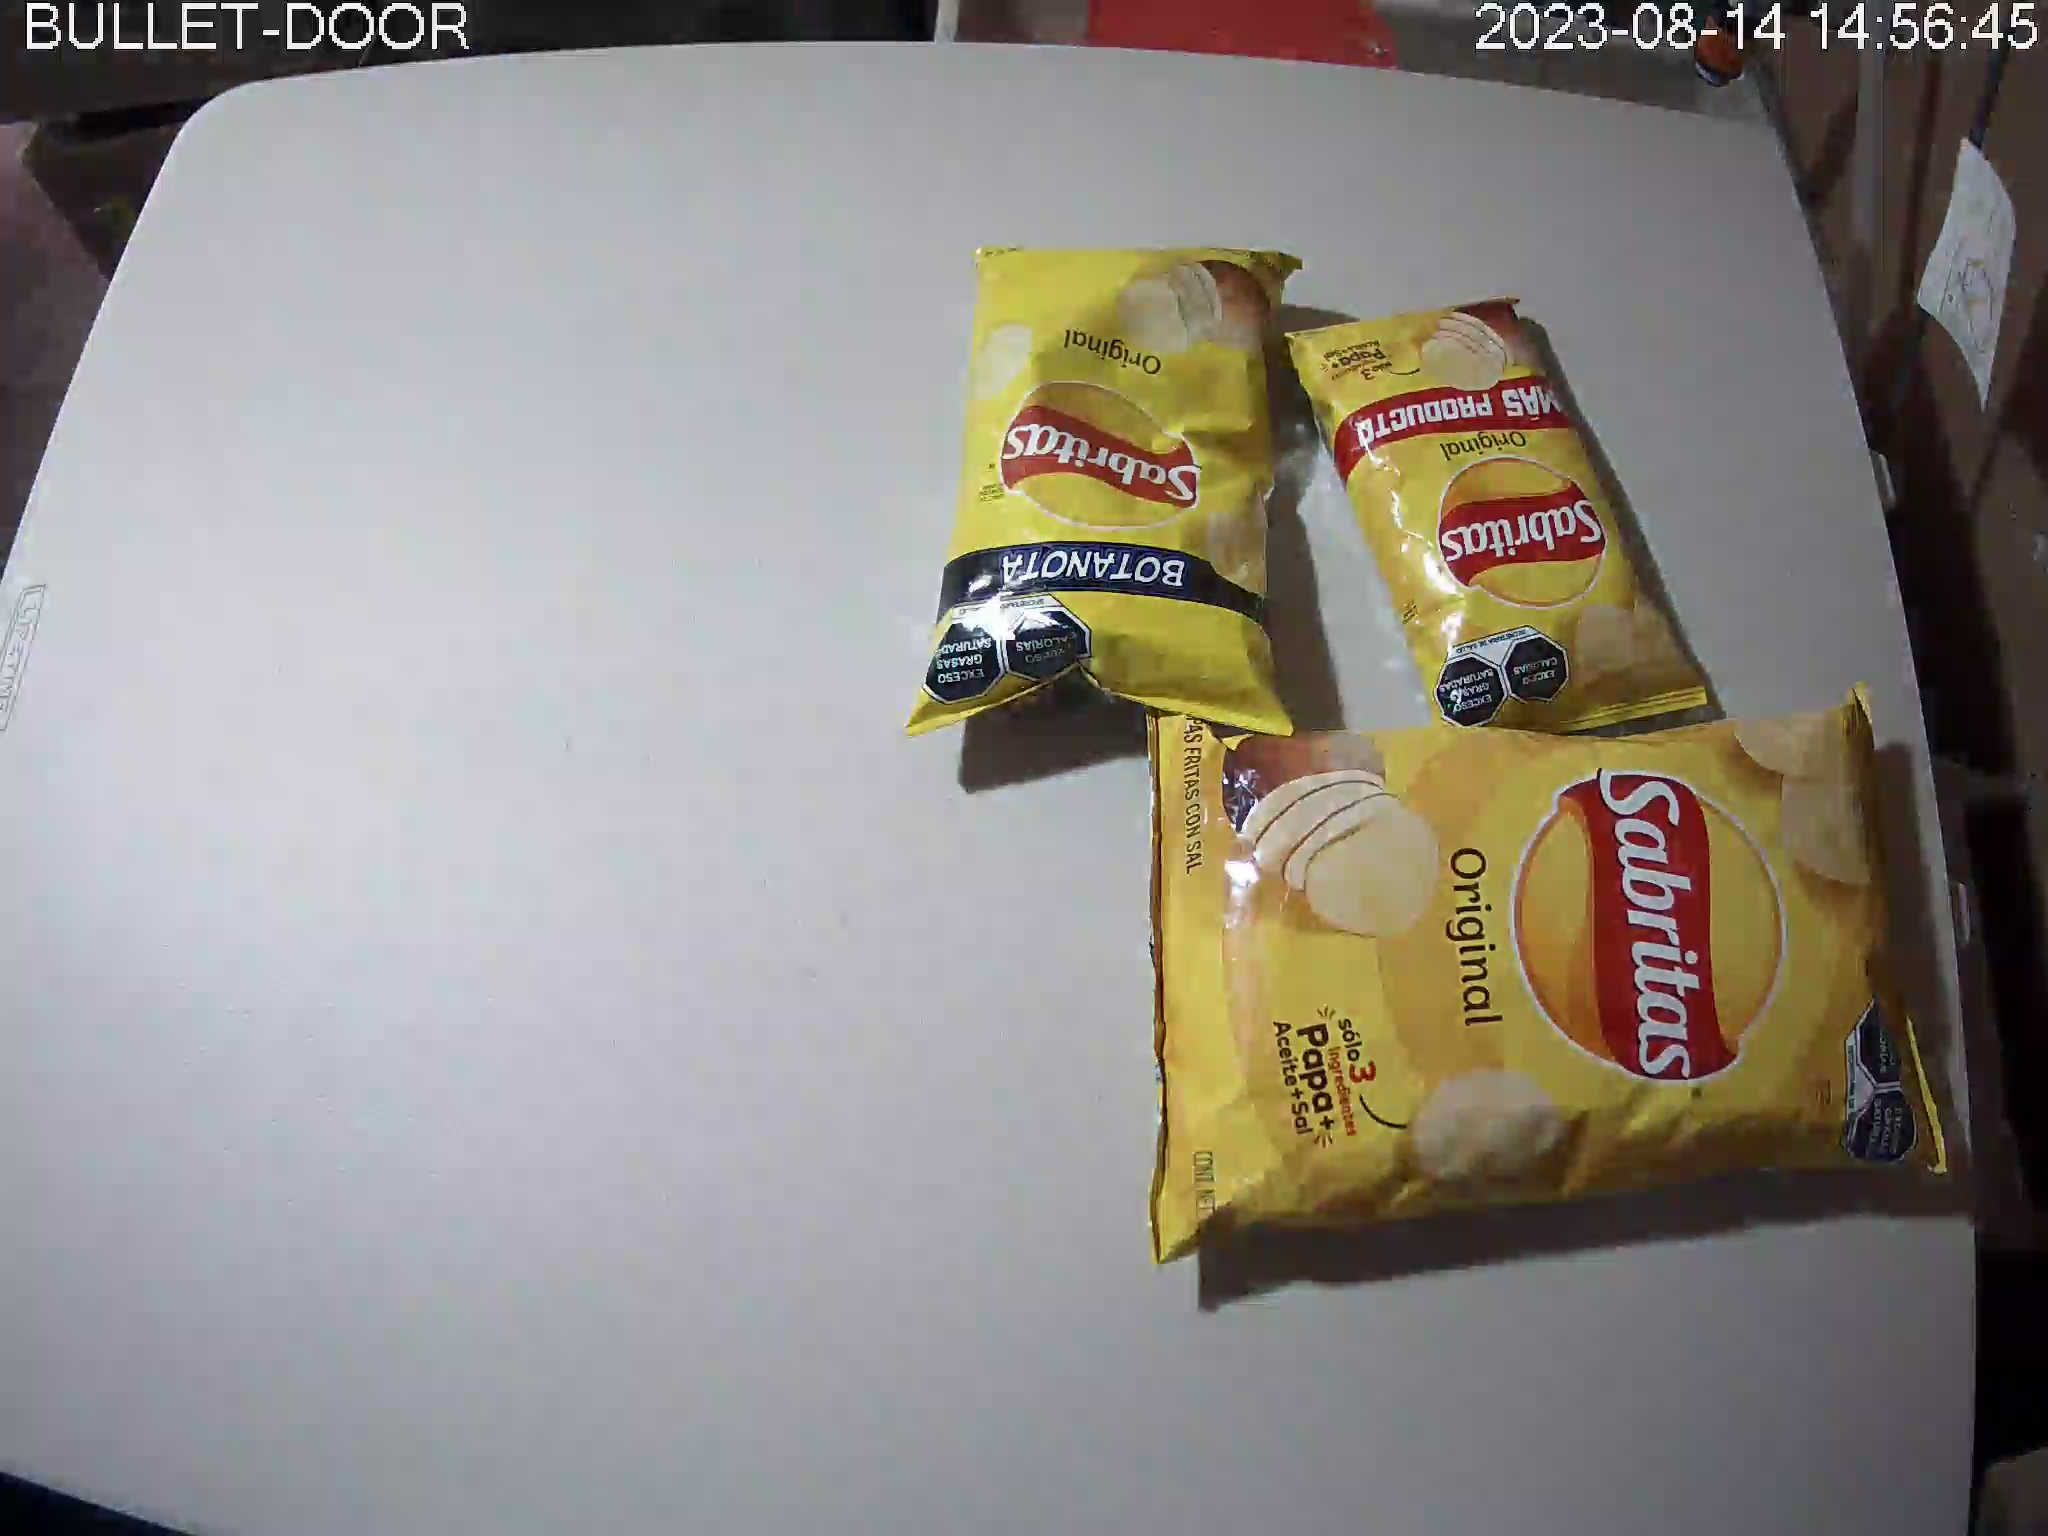Sabritas_160_F: (1145, 678, 1961, 1263)
Sabritas_45_F: (1272, 298, 1713, 741)
Sabritas_64_F: (905, 247, 1301, 733)
